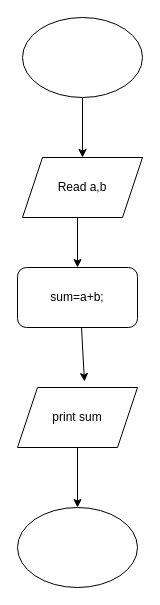
The diagram is 160 pixels wide and 605 high, and some of its shapes have lost their labels. Here are the shapes that lost their labels. From the top down, the centre of each, then its label:
the point at 82,57: start
the point at 77,547: stop
